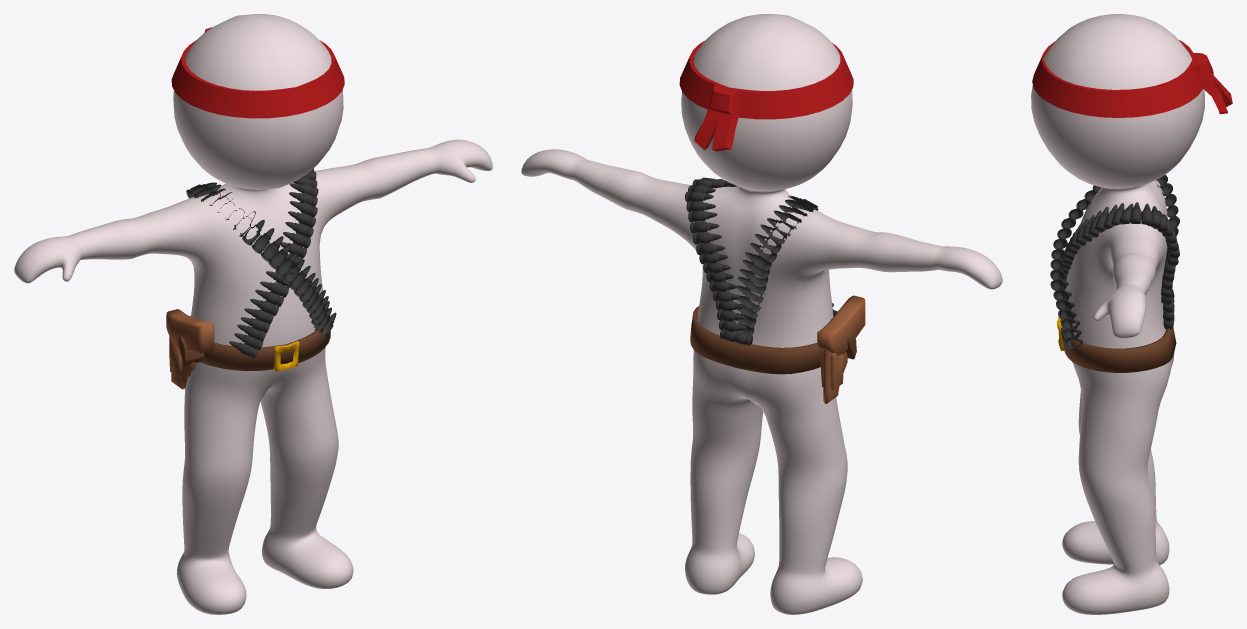
File: Soldier_1.fbx
3 renders of one model, left to right at view 1: azimuth 30°, elevation 25°; view 2: azimuth 150°, elevation 25°; view 3: azimuth 270°, elevation 25°, orthographic.
Parts seen in each view (by area): view 1: Body, bullet1, band, belt2; view 2: Body, bullet1, band, belt2; view 3: Body, bullet1, band, belt2.
Part boxes in pixels (x1,y1,x2,y2): Body: [14, 14, 492, 614]; bullet1: [186, 168, 336, 358]; band: [171, 27, 344, 118]; belt2: [166, 308, 330, 389]; Body: [521, 14, 1002, 614]; bullet1: [685, 177, 837, 345]; band: [679, 41, 853, 151]; belt2: [690, 295, 865, 403]; Body: [1031, 14, 1204, 614]; bullet1: [1050, 175, 1179, 348]; band: [1032, 40, 1232, 117]; belt2: [1056, 317, 1176, 372].
Size of the model in its own units: 144 by 164 by 53.63.
